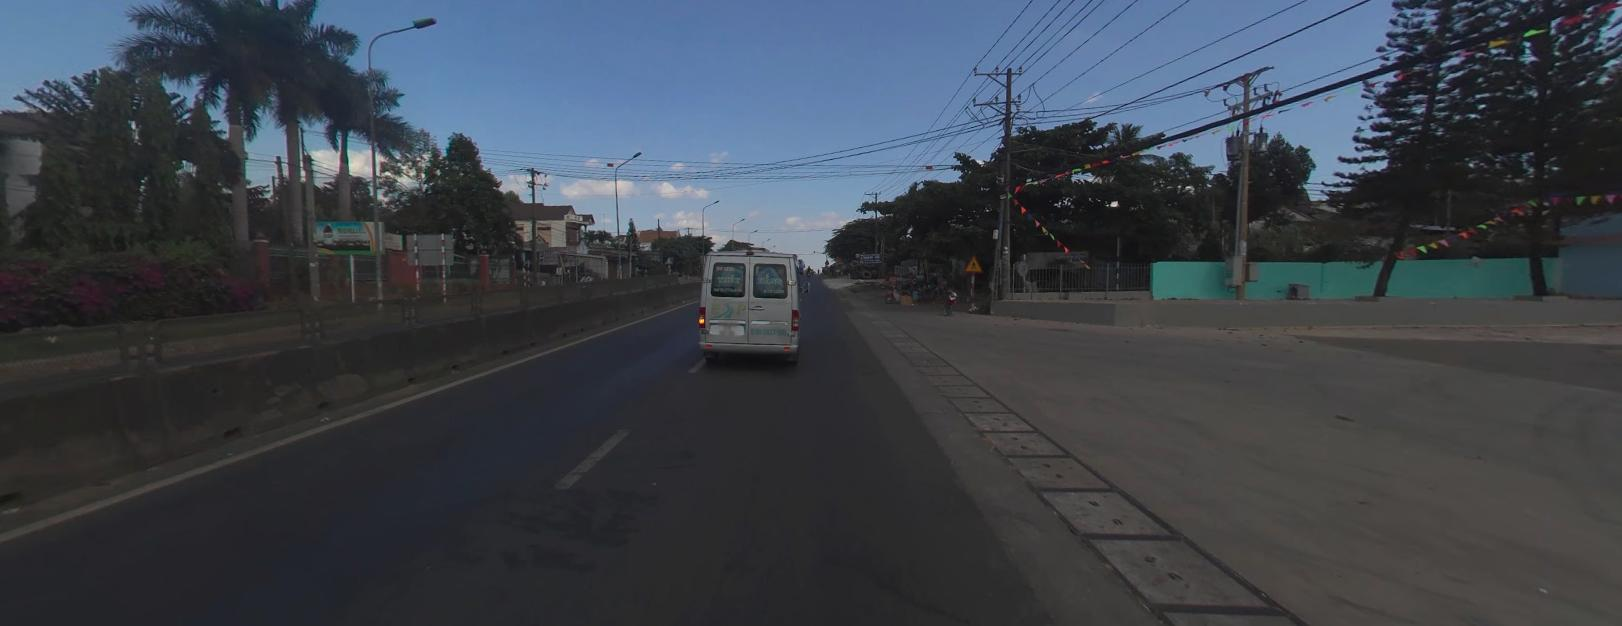Nguy hiem: (965, 252, 984, 271), (964, 253, 984, 271), (964, 253, 982, 271)
